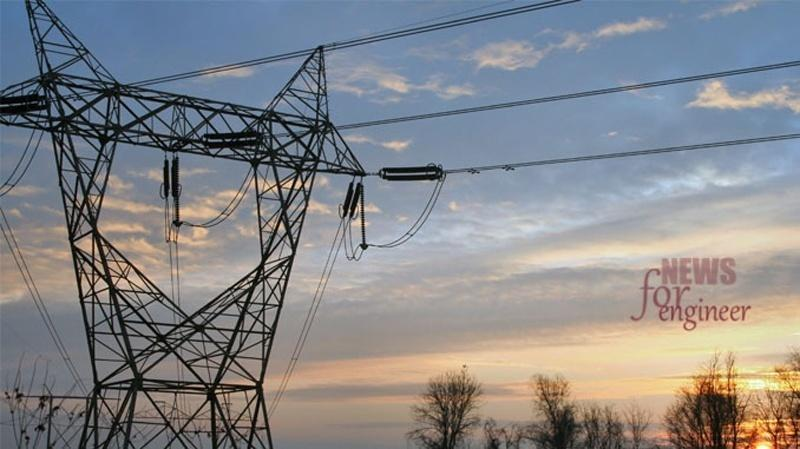power_tower: (0, 2, 447, 449)
